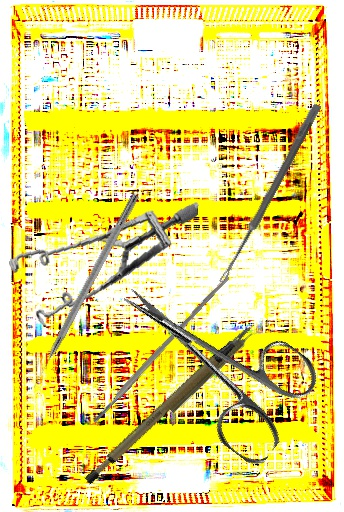Handpiece: (166, 323, 264, 417)
Hook Surgical: (28, 191, 141, 390)
Iris Scissors: (90, 248, 330, 471)
Scalpel Handle: (66, 324, 275, 488), (90, 273, 232, 425)
Speculum: (2, 180, 199, 344)
Surgical Spoon: (217, 102, 322, 286)
